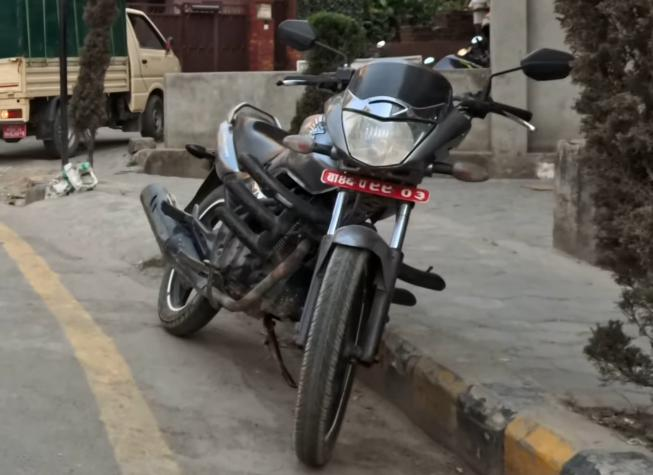bike: (137, 14, 586, 475)
